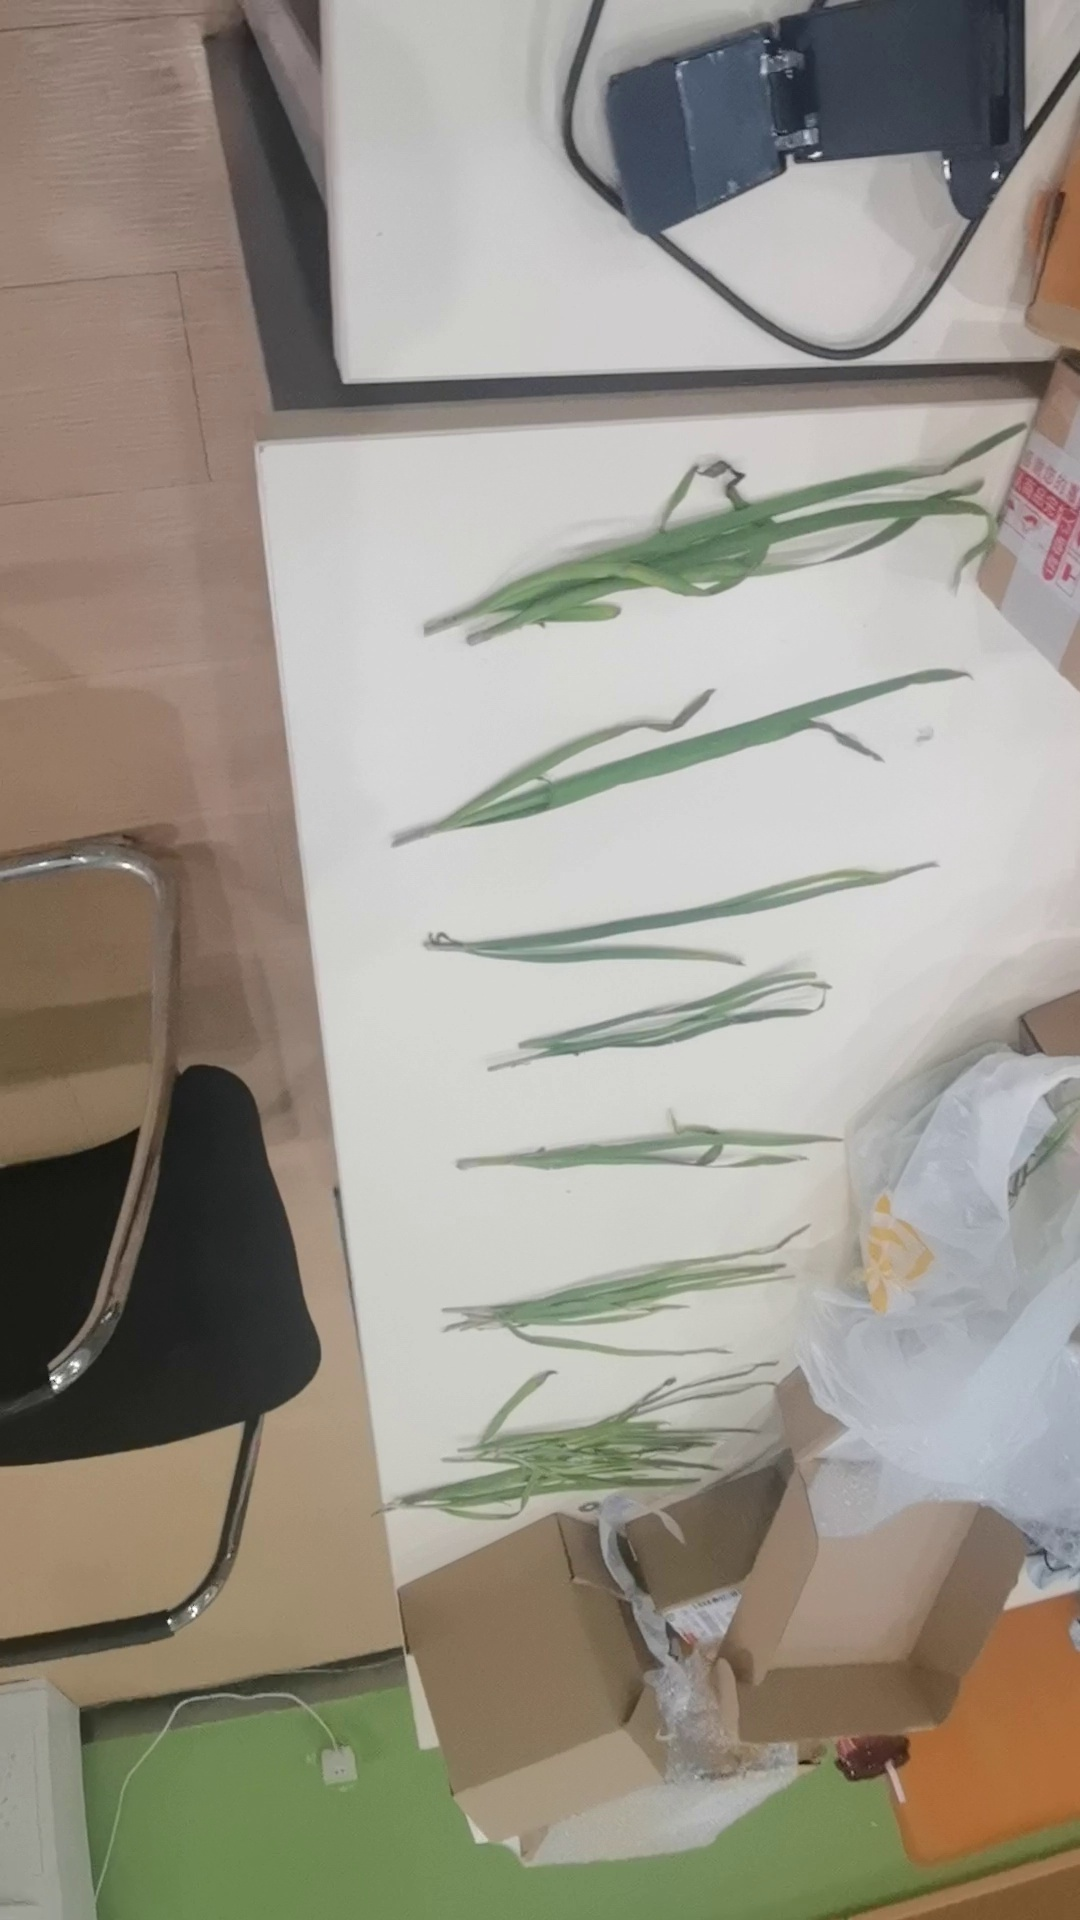chives: (365, 472, 1018, 666), (353, 688, 1062, 858), (375, 1378, 847, 1556), (382, 864, 986, 978), (429, 1104, 906, 1217), (467, 978, 953, 1084), (433, 1241, 876, 1349)
